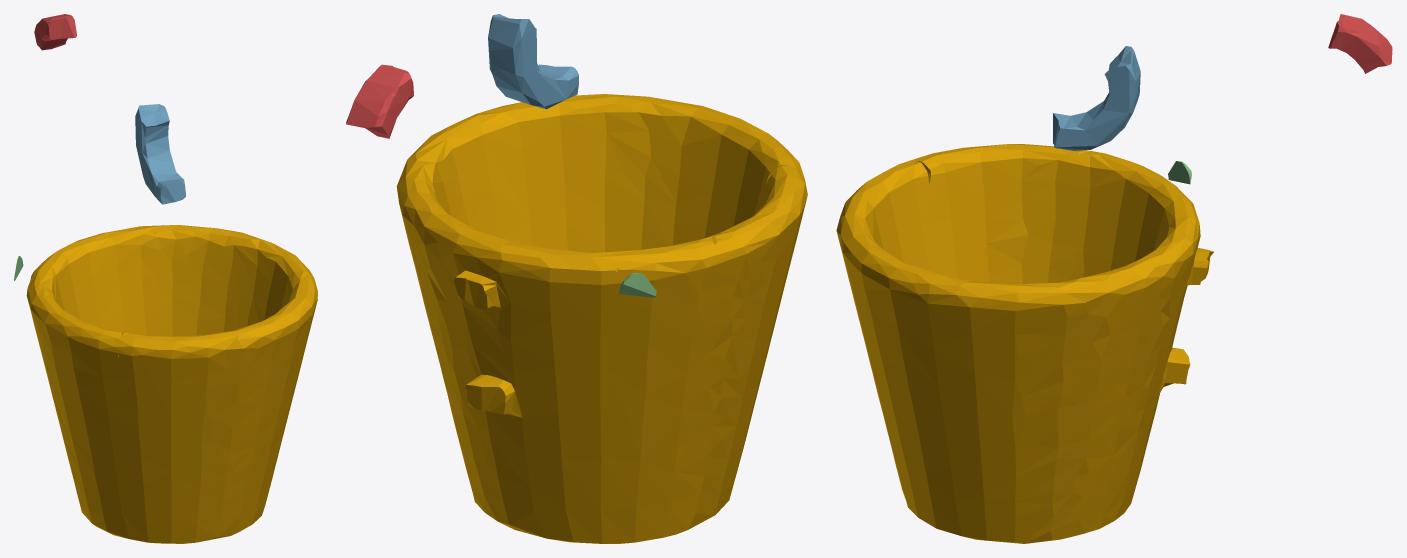
Rendered from fractured_71_4pcs_transformed.glb.
The picture shows the model from 3 angles, left to right: view 1: azimuth 30°, elevation 25°; view 2: azimuth 150°, elevation 25°; view 3: azimuth 270°, elevation 25°; orthographic projection. The views are drawn at different scales.
Parts seen in each view (by area): view 1: piece_0.obj, piece_2.obj, piece_1.obj; view 2: piece_0.obj, piece_2.obj, piece_1.obj, piece_3.obj; view 3: piece_0.obj, piece_2.obj, piece_1.obj.
Part boxes in pixels (bbox=[...]): piece_0.obj: bbox=[26, 225, 317, 543]; piece_2.obj: bbox=[135, 104, 185, 204]; piece_1.obj: bbox=[34, 14, 76, 50]; piece_0.obj: bbox=[396, 94, 807, 543]; piece_2.obj: bbox=[488, 14, 578, 109]; piece_1.obj: bbox=[346, 64, 413, 138]; piece_3.obj: bbox=[619, 273, 656, 297]; piece_0.obj: bbox=[836, 144, 1213, 543]; piece_2.obj: bbox=[1053, 46, 1140, 150]; piece_1.obj: bbox=[1328, 14, 1392, 73].
Bounding box in the file's own units: 0.8382 × 1.24 × 1.28.
